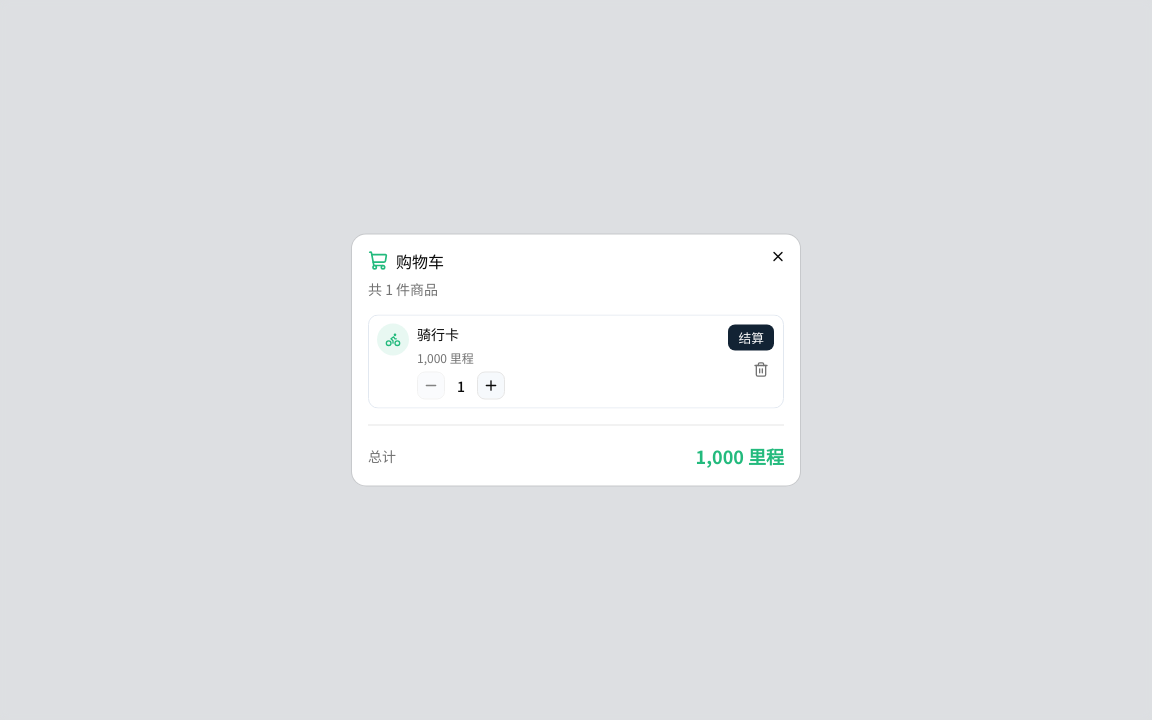
CartDialog catalog reconciliation › updates an open confirmation from the current cart item after repricing
Click the button "结算" at (751,338), box [727,324,775,352]
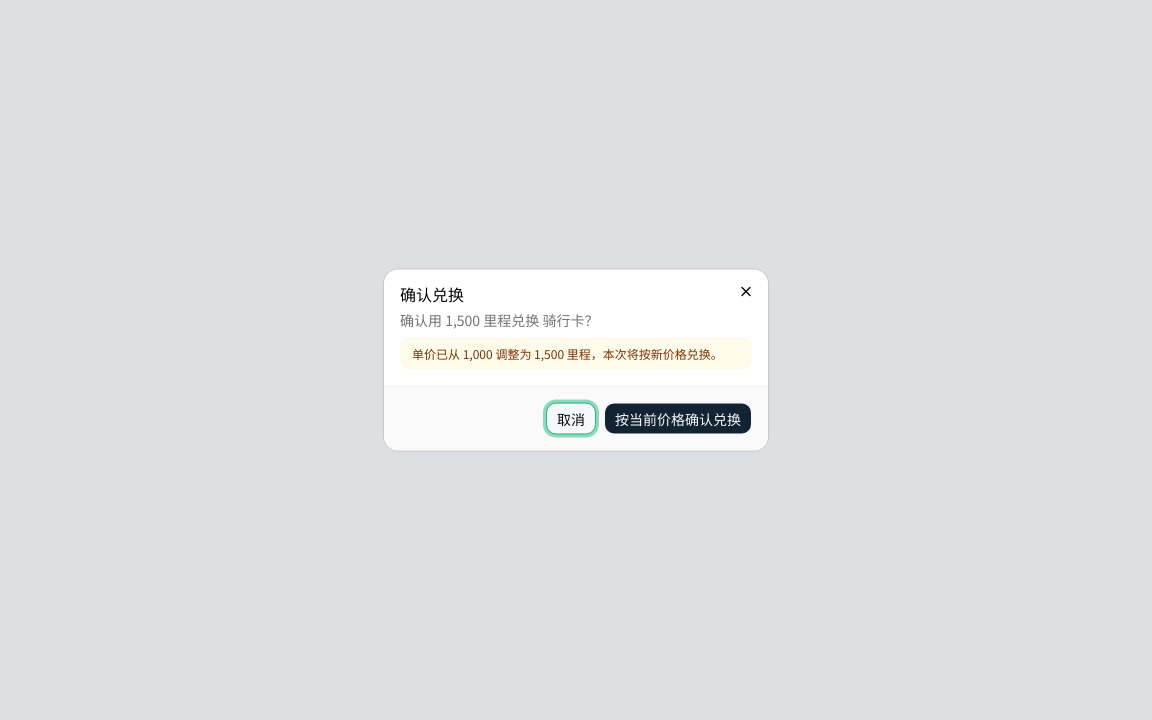
Expected: the text "确认用 1,500 里程兑换 骑行卡？" is shown, [400,310,598,330]
Expected: the text "单价已从 1,000 调整为 1,500 里程，本次将按新价格兑换。" is shown, [400,338,752,370]
